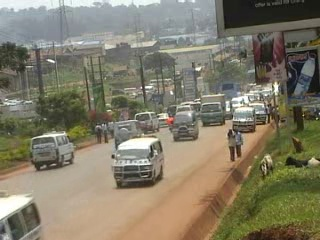Car: (111, 117, 147, 153), (153, 110, 171, 128), (229, 96, 246, 114), (223, 98, 233, 120), (237, 94, 250, 105)
Motorcycle: (165, 112, 174, 134)
